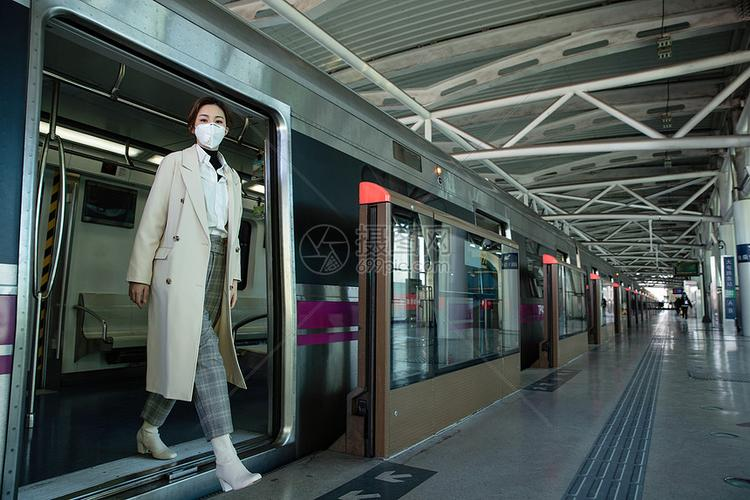mask: (193, 105, 228, 154)
